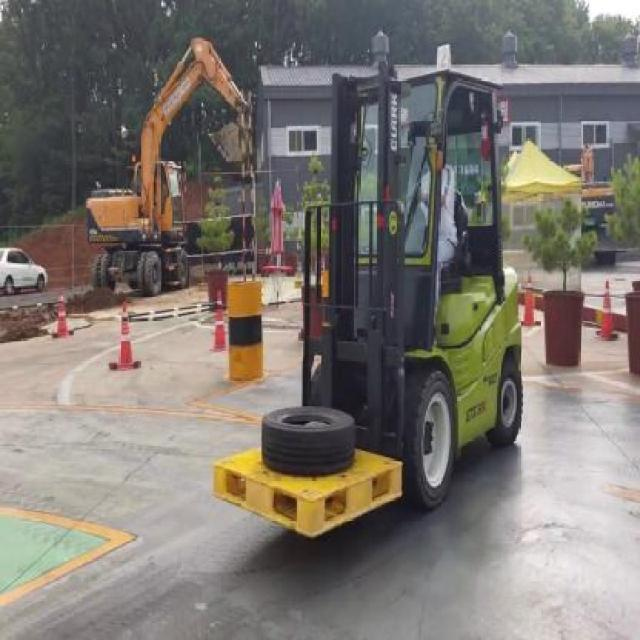forklift: (307, 79, 528, 459)
